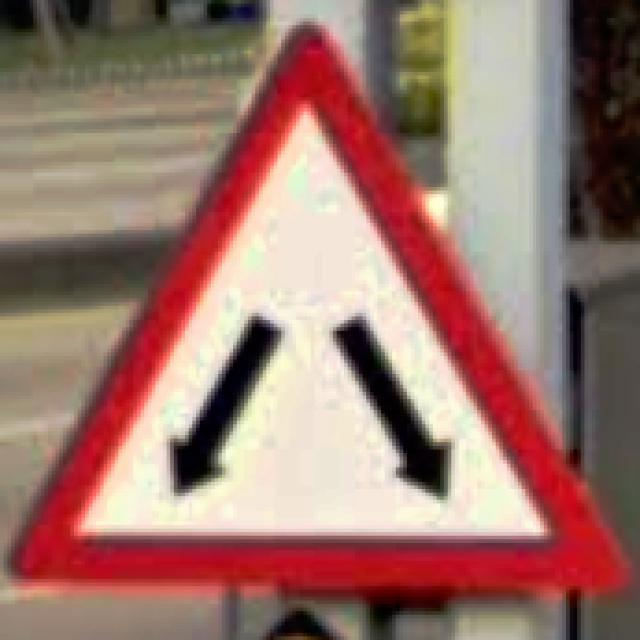diverge: (4, 18, 636, 604)
